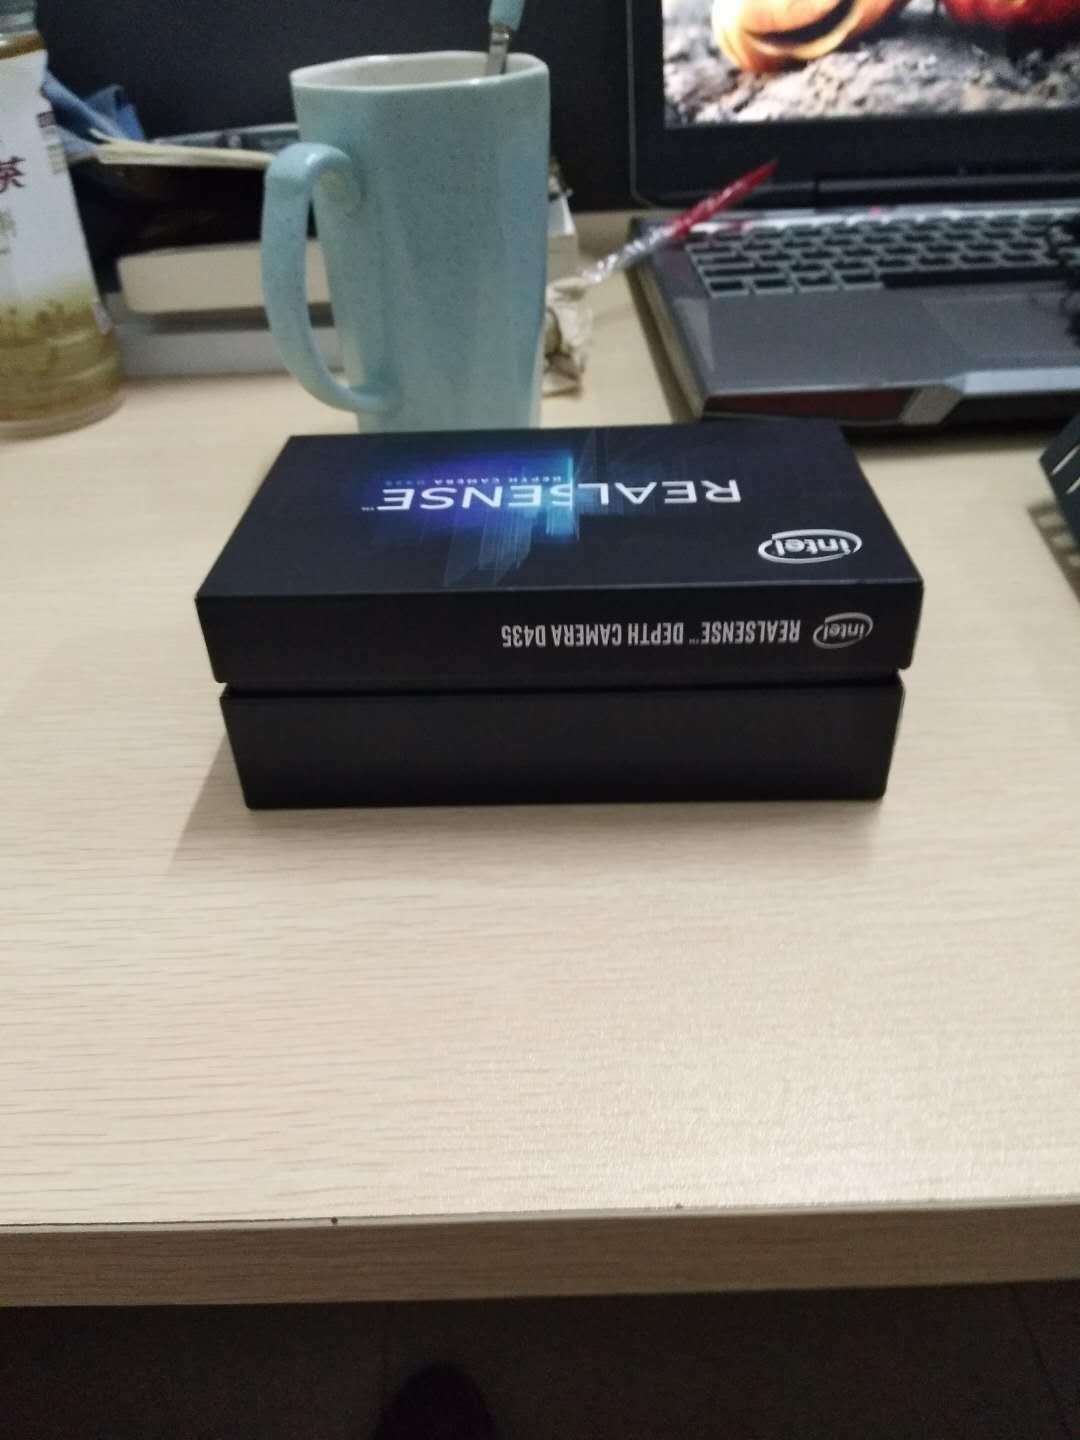box: (185, 427, 944, 821)
